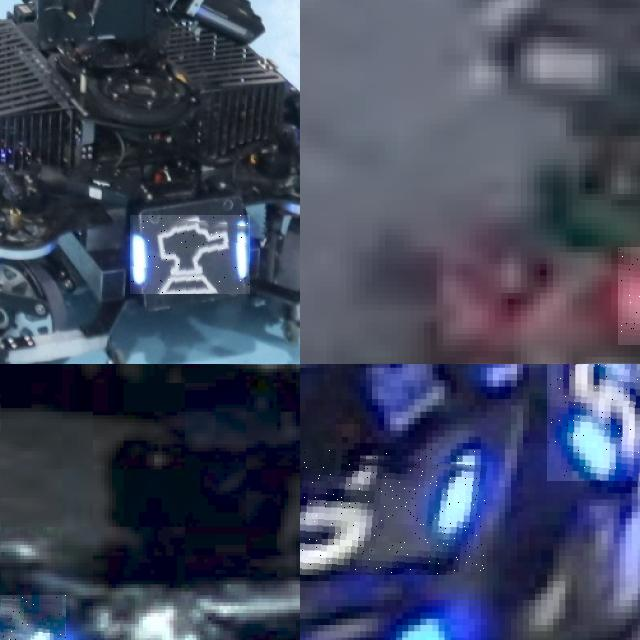B5: (300, 449, 487, 574), (547, 364, 640, 480), (300, 600, 450, 640)
Bs: (130, 215, 250, 294), (0, 595, 66, 640)
